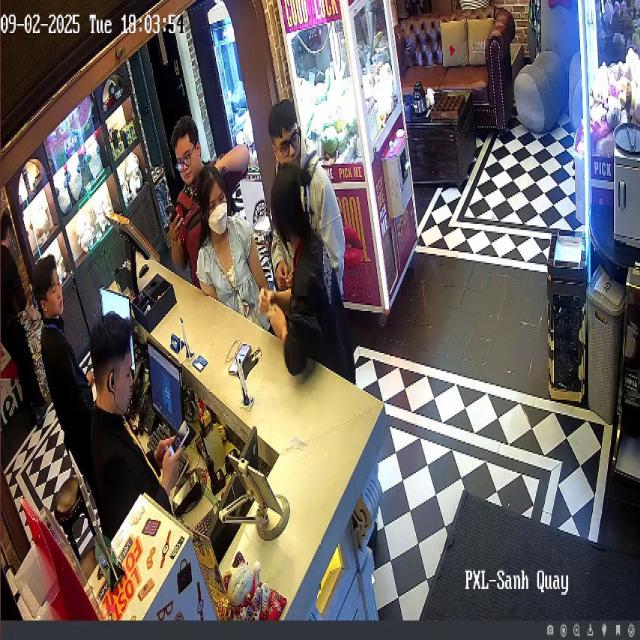khach: (260, 162, 358, 427), (264, 86, 361, 286), (191, 157, 271, 336), (169, 96, 242, 284)
nhan vien: (80, 297, 196, 566), (26, 242, 100, 466), (0, 189, 49, 426)
